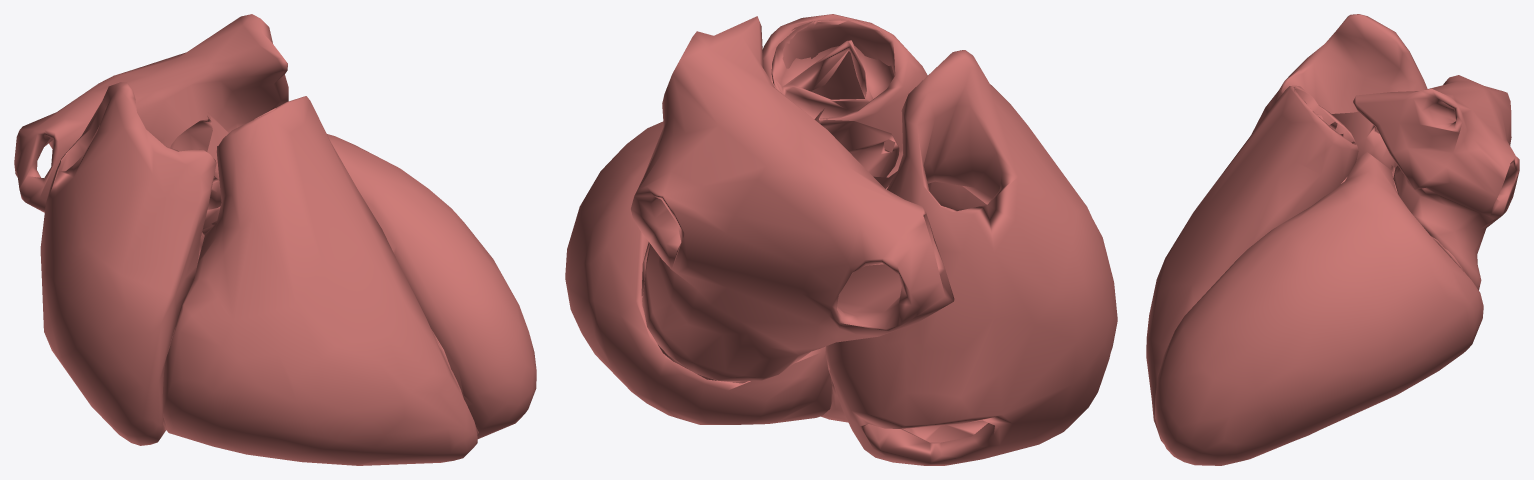
The model's file is heart.glb.
3 views of the same model, side by side, from view 1: azimuth 30°, elevation 25°; view 2: azimuth 150°, elevation 25°; view 3: azimuth 270°, elevation 25° (orthographic). The views are drawn at different scales.
Visible parts, largest first — view 1: VH_M_mitral_valve; view 2: VH_M_mitral_valve; view 3: VH_M_mitral_valve.
Boxes of the visible parts, x1,y1,x2,y2 form: VH_M_mitral_valve: (14, 14, 536, 465); VH_M_mitral_valve: (565, 14, 1117, 465); VH_M_mitral_valve: (1146, 14, 1519, 465).
Bounding box in the file's own units: 0.1242 × 0.1052 × 0.1049.
